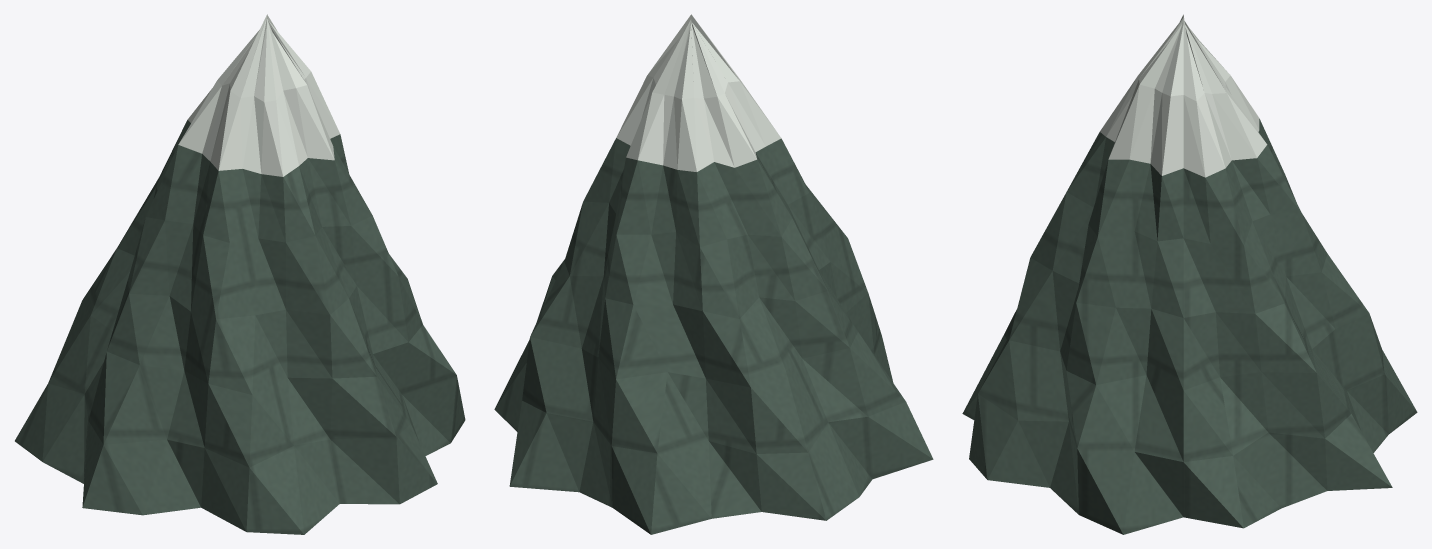
The model's file is mountain.glb.
The picture shows the model from 3 angles, left to right: view 1: azimuth 30°, elevation 25°; view 2: azimuth 150°, elevation 25°; view 3: azimuth 270°, elevation 25°; orthographic projection. The views are drawn at different scales.
Visible parts, largest first — view 1: Mountain; view 2: Mountain; view 3: Mountain.
Part boxes in pixels (x1,y1,x2,y2): Mountain: [15, 14, 465, 534]; Mountain: [494, 14, 933, 534]; Mountain: [962, 14, 1417, 534].
Size of the model in its own units: 2.23 by 2.36 by 2.23.
Materials: 2 (1 with a texture image).
